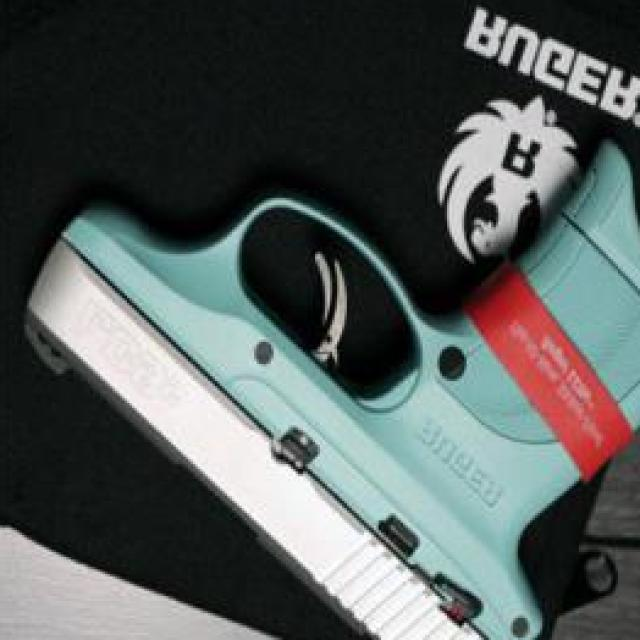pistol: (17, 110, 640, 640)
